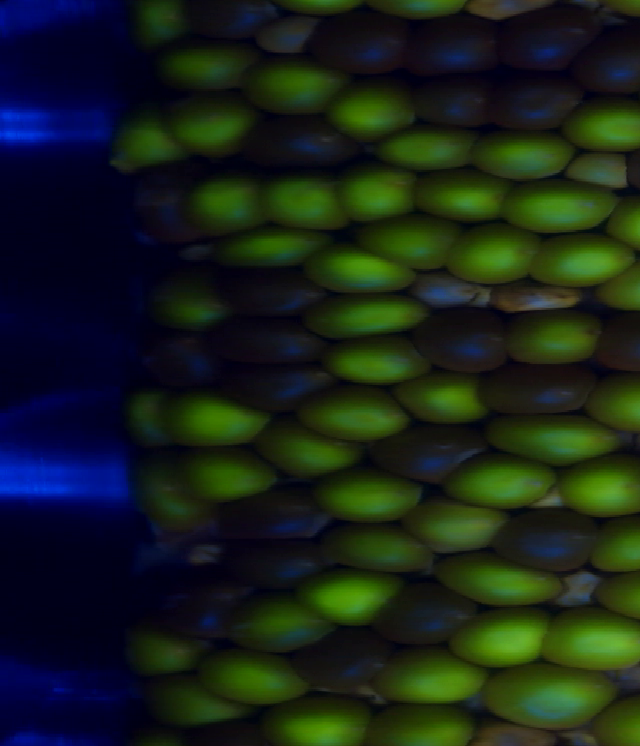fluorescent: (474, 663, 619, 730), (313, 521, 441, 592), (438, 551, 574, 613), (375, 643, 489, 714), (482, 410, 620, 465), (444, 450, 562, 513), (315, 463, 433, 525), (201, 646, 315, 710), (531, 222, 638, 290), (465, 118, 578, 182), (132, 446, 216, 531), (305, 376, 410, 443), (453, 607, 561, 671), (263, 414, 362, 482), (409, 164, 512, 229), (444, 218, 541, 287), (396, 496, 510, 554), (161, 389, 280, 444), (495, 308, 607, 366), (328, 72, 419, 143), (325, 328, 434, 387), (265, 688, 374, 746), (149, 671, 258, 729), (357, 216, 464, 275), (305, 568, 406, 630), (235, 590, 338, 650), (499, 177, 617, 229), (548, 606, 640, 672), (168, 86, 253, 156), (237, 59, 345, 114), (557, 448, 640, 518), (177, 439, 277, 496), (298, 290, 430, 333), (334, 159, 424, 222), (375, 117, 480, 170), (399, 368, 491, 426), (311, 248, 418, 297), (153, 39, 258, 88), (368, 698, 475, 746), (560, 90, 640, 153), (225, 226, 331, 272), (265, 173, 345, 233), (123, 631, 219, 680), (108, 106, 178, 172), (191, 178, 271, 233), (156, 272, 228, 328), (586, 362, 640, 435), (119, 390, 176, 450), (127, 1, 188, 50), (595, 683, 640, 746), (597, 512, 640, 576), (596, 563, 640, 619), (605, 247, 640, 316), (372, 1, 472, 20), (610, 193, 640, 249), (280, 1, 369, 16), (599, 1, 640, 17)
nonfluorescent: (364, 416, 497, 486), (477, 354, 610, 416), (212, 353, 343, 412), (493, 502, 608, 569), (276, 629, 400, 688), (242, 114, 362, 174), (221, 533, 335, 596), (411, 307, 512, 378), (365, 576, 474, 641), (407, 9, 499, 85), (142, 570, 239, 641), (217, 488, 336, 545), (302, 13, 408, 75), (498, 3, 596, 70), (401, 73, 508, 131), (215, 267, 337, 317), (126, 180, 216, 247), (206, 319, 340, 364), (492, 71, 584, 132), (142, 323, 220, 393), (574, 23, 640, 94), (181, 1, 275, 46), (184, 709, 283, 746), (595, 305, 640, 374), (475, 717, 568, 746)
